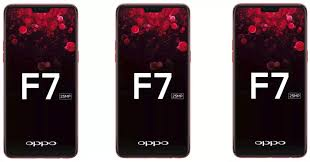oppo: (3, 1, 81, 162), (113, 1, 191, 162), (229, 1, 307, 162)
